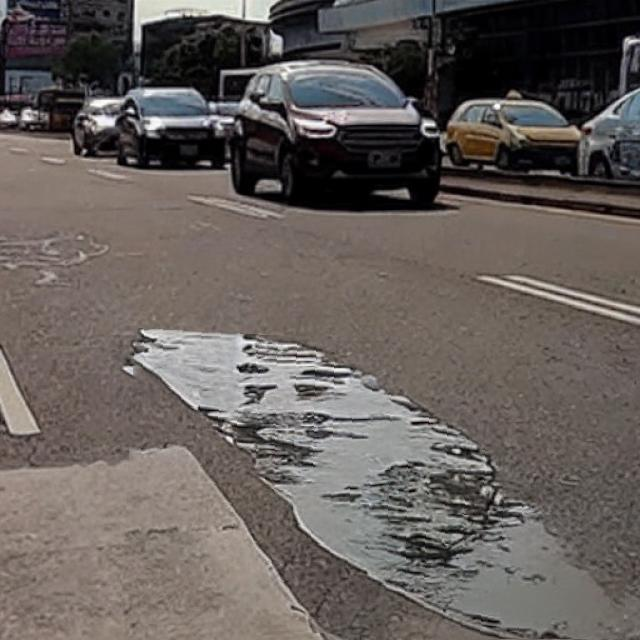puddle: (126, 335, 636, 640)
